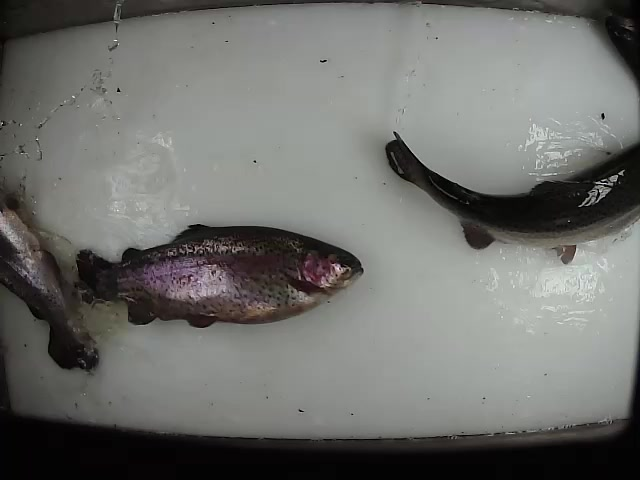fish: (380, 2, 640, 269), (70, 223, 368, 329), (1, 191, 105, 374)
